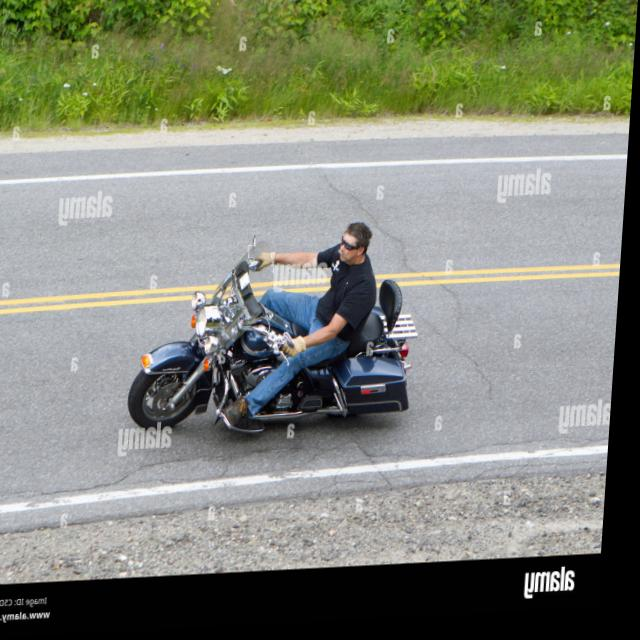without helmet: (340, 215, 381, 278)
